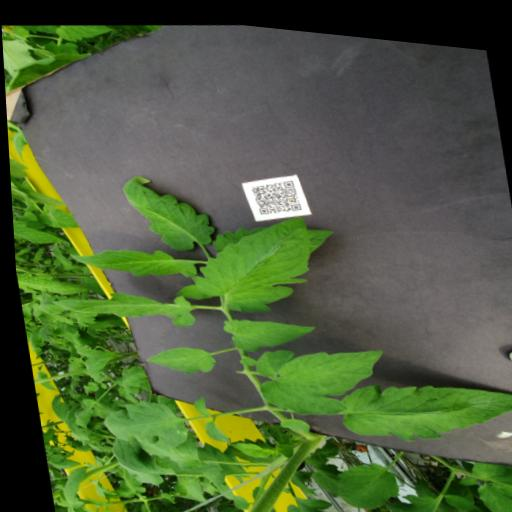Healthy: (327, 354, 512, 451), (179, 200, 321, 320), (249, 331, 391, 422), (113, 164, 216, 257), (46, 277, 198, 338), (63, 235, 196, 288), (214, 301, 317, 358), (92, 390, 184, 452), (327, 451, 396, 508), (135, 335, 218, 378), (53, 18, 117, 47), (469, 470, 512, 512), (278, 487, 346, 512), (32, 200, 77, 231), (437, 481, 475, 505), (198, 415, 226, 444), (188, 390, 209, 415), (104, 507, 130, 512)
